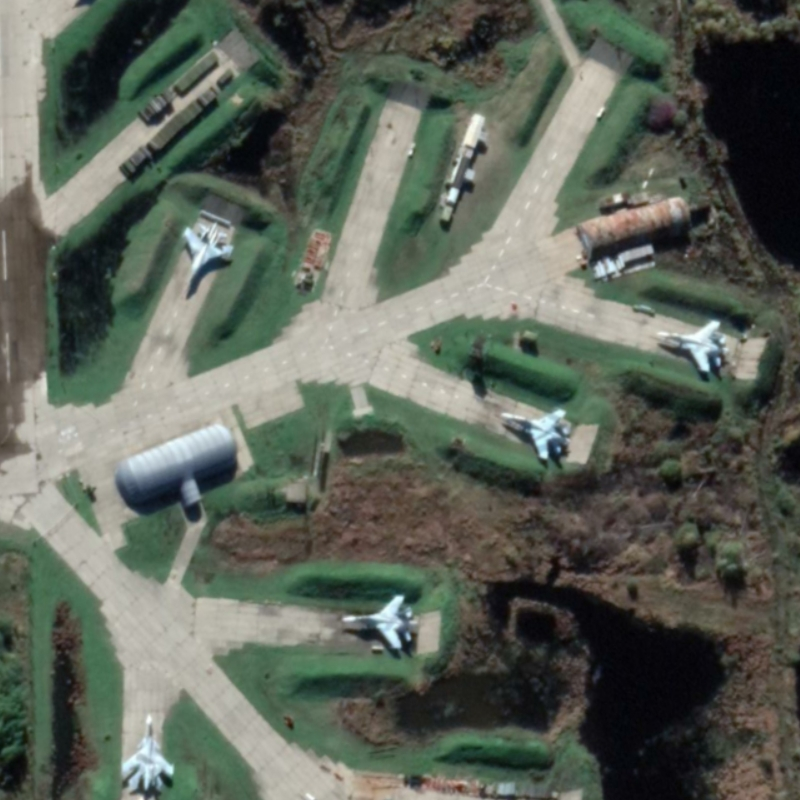A1: (339, 593, 420, 650), (180, 220, 235, 300), (655, 318, 731, 375), (500, 407, 573, 463)
A19: (119, 711, 176, 793)
